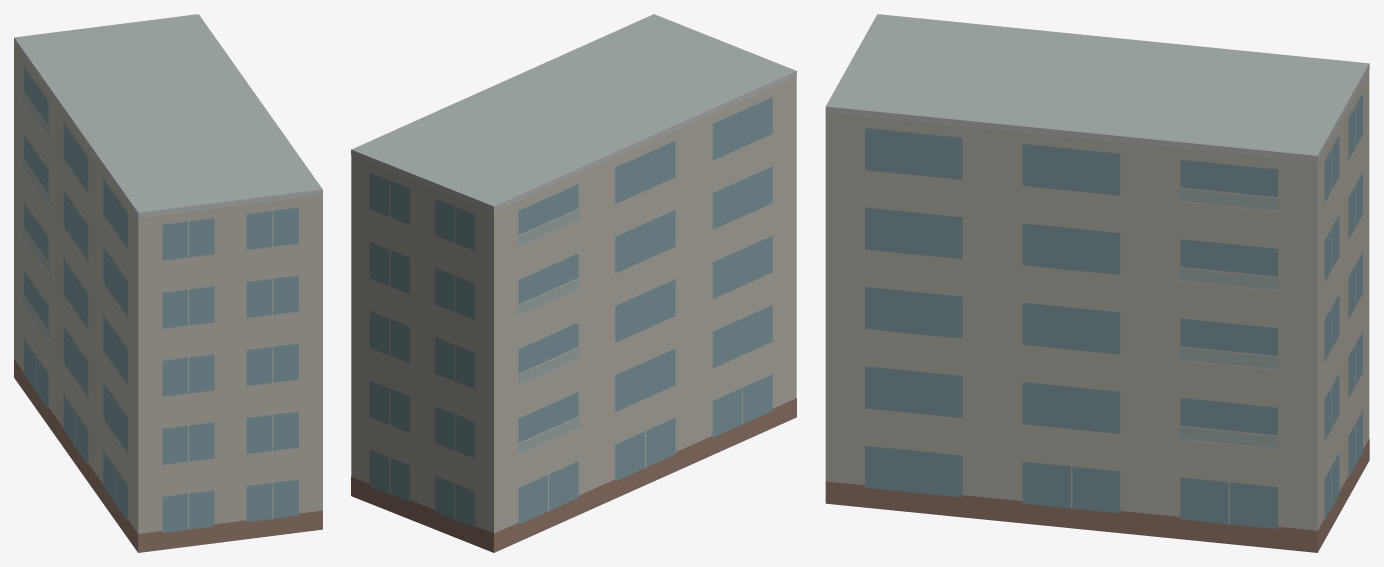
Rendered from survey-upis-32564604.glb.
The picture shows the model from 3 angles, left to right: view 1: azimuth 30°, elevation 25°; view 2: azimuth 150°, elevation 25°; view 3: azimuth 270°, elevation 25°; orthographic projection. The views are drawn at different scales.
Visible parts, largest first — view 1: survey-upis-32564604.tmp; view 2: survey-upis-32564604.tmp; view 3: survey-upis-32564604.tmp.
Part boxes in pixels (x1,y1,x2,y2): survey-upis-32564604.tmp: [14, 14, 322, 552]; survey-upis-32564604.tmp: [351, 14, 796, 552]; survey-upis-32564604.tmp: [825, 14, 1369, 552].
Size of the model in its own units: 12.08 by 15.75 by 19.56.
